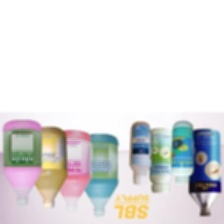insecticide: (0, 116, 45, 207), (77, 131, 121, 218), (52, 125, 93, 213), (186, 125, 223, 217), (30, 123, 69, 209), (146, 127, 176, 196), (126, 119, 153, 186), (172, 118, 197, 185)
